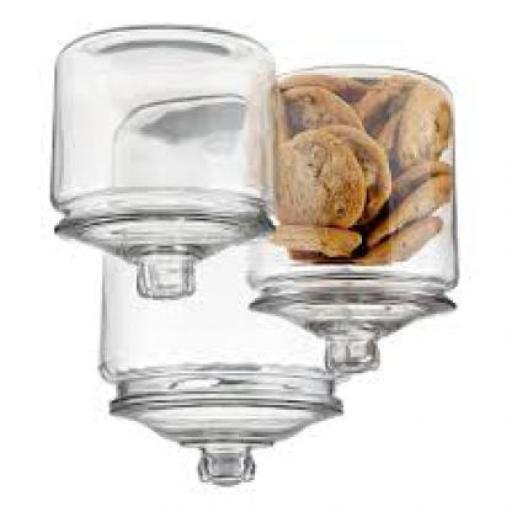biodegradable: (298, 126, 394, 228), (275, 138, 366, 234), (368, 180, 454, 248), (401, 89, 457, 173), (287, 90, 368, 144), (282, 84, 368, 134), (358, 224, 446, 266), (394, 164, 453, 216), (271, 228, 367, 257), (355, 84, 414, 130), (276, 84, 298, 150), (375, 122, 405, 170), (384, 89, 412, 128), (291, 253, 353, 266)
glass: (102, 230, 353, 491), (248, 70, 460, 376), (50, 27, 277, 303)
